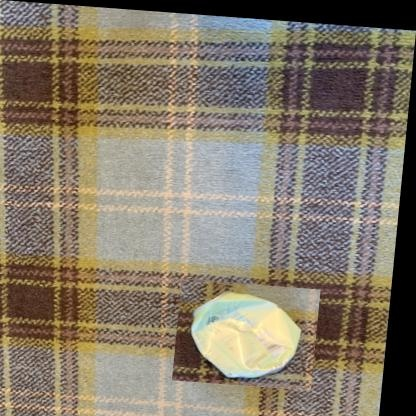trash: (191, 292, 300, 377)
